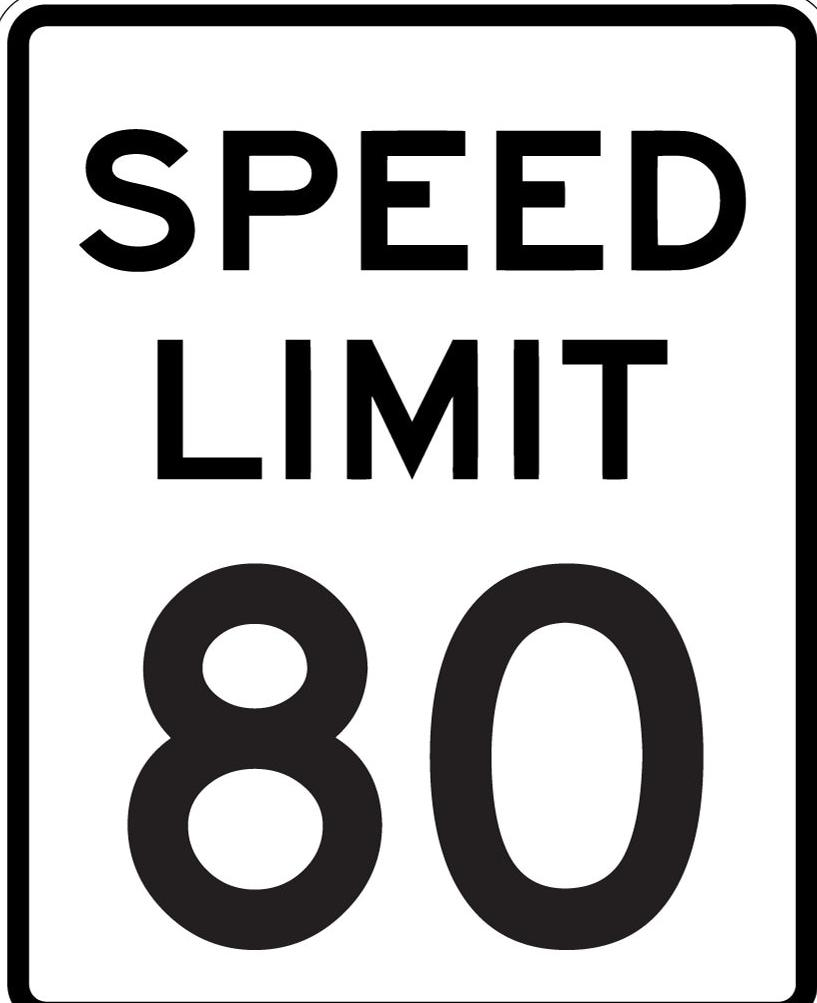Speed Limit -80-: (0, 1, 816, 1002)
